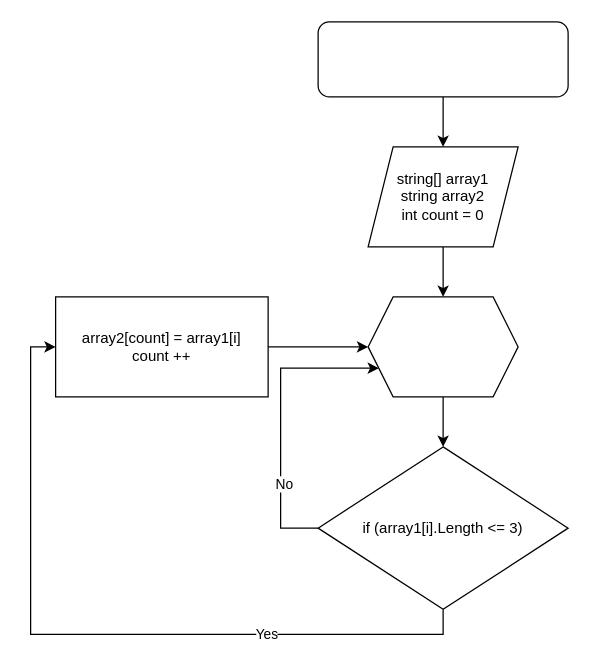
This 590x666 diagram has some shape labels left out. Each missing label, with the centre of its shape:
"for (int = 0; i < array1.Lenght; i++)" goes at point 442,346.
"LessThreeCharactersArray" goes at point 442,59.
